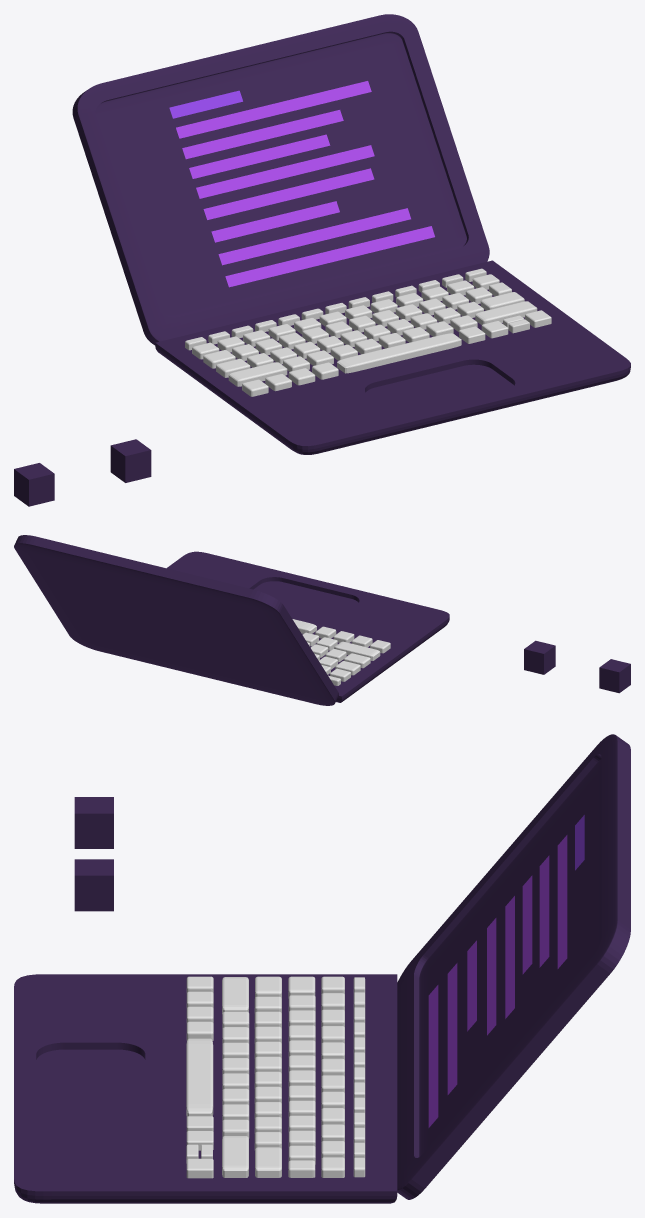
The model's file is laptop.glb.
The picture shows the model from 3 angles, top to bottom: view 1: azimuth 30°, elevation 25°; view 2: azimuth 150°, elevation 25°; view 3: azimuth 270°, elevation 25°; orthographic projection. The views are drawn at different scales.
Parts seen in each view (by area): view 1: Cube.025, Cube.020, Cube.001, Cube.012, Cube.004, Text9, Cube.005, Text2, Text8, Cube.003, Text6, Text5 (+11 smaller); view 2: Cube.025, Cube.020, Cube.023, Cube.024, Cube.006, Cube.011, Cube.004, Cube.005, Cube.009; view 3: Cube.020, Cube.025, Cube.001, Cube.012, Cube.004, Cube.005, Cube.003, Cube.007, Cube.023, Cube.024, Cube.006, Text9 (+11 smaller).
Part boxes in pixels (x1=…): Cube.025: x1=72, y1=14, x2=489, y2=345; Cube.020: x1=155, y1=260, x2=630, y2=454; Cube.001: x1=192, y1=274, x2=499, y2=359; Cube.012: x1=232, y1=287, x2=492, y2=360; Cube.004: x1=247, y1=301, x2=483, y2=367; Text9: x1=225, y1=226, x2=434, y2=287; Cube.005: x1=283, y1=315, x2=477, y2=371; Text2: x1=176, y1=81, x2=371, y2=138; Text8: x1=218, y1=208, x2=410, y2=265; Cube.003: x1=185, y1=268, x2=486, y2=350; Text6: x1=196, y1=145, x2=374, y2=198; Text5: x1=203, y1=168, x2=374, y2=219; Cube.025: x1=14, y1=535, x2=338, y2=705; Cube.020: x1=167, y1=551, x2=449, y2=702; Cube.023: x1=524, y1=640, x2=555, y2=674; Cube.024: x1=599, y1=659, x2=630, y2=693; Cube.006: x1=315, y1=626, x2=390, y2=653; Cube.011: x1=334, y1=641, x2=380, y2=660; Cube.004: x1=307, y1=642, x2=346, y2=662; Cube.005: x1=302, y1=632, x2=337, y2=650; Cube.009: x1=343, y1=653, x2=370, y2=668; Cube.020: x1=14, y1=974, x2=397, y2=1203; Cube.025: x1=397, y1=734, x2=630, y2=1199; Cube.001: x1=321, y1=976, x2=344, y2=1177; Cube.012: x1=288, y1=995, x2=315, y2=1164; Cube.004: x1=254, y1=996, x2=281, y2=1150; Cube.005: x1=222, y1=1011, x2=249, y2=1138; Cube.003: x1=353, y1=977, x2=365, y2=1177; Cube.007: x1=186, y1=1038, x2=213, y2=1116; Cube.023: x1=74, y1=859, x2=113, y2=911; Cube.024: x1=74, y1=797, x2=113, y2=848; Cube.006: x1=186, y1=976, x2=213, y2=1040; Text9: x1=428, y1=985, x2=438, y2=1127.
Size of the model in its own units: 4.57 by 1.53 by 3.15.
